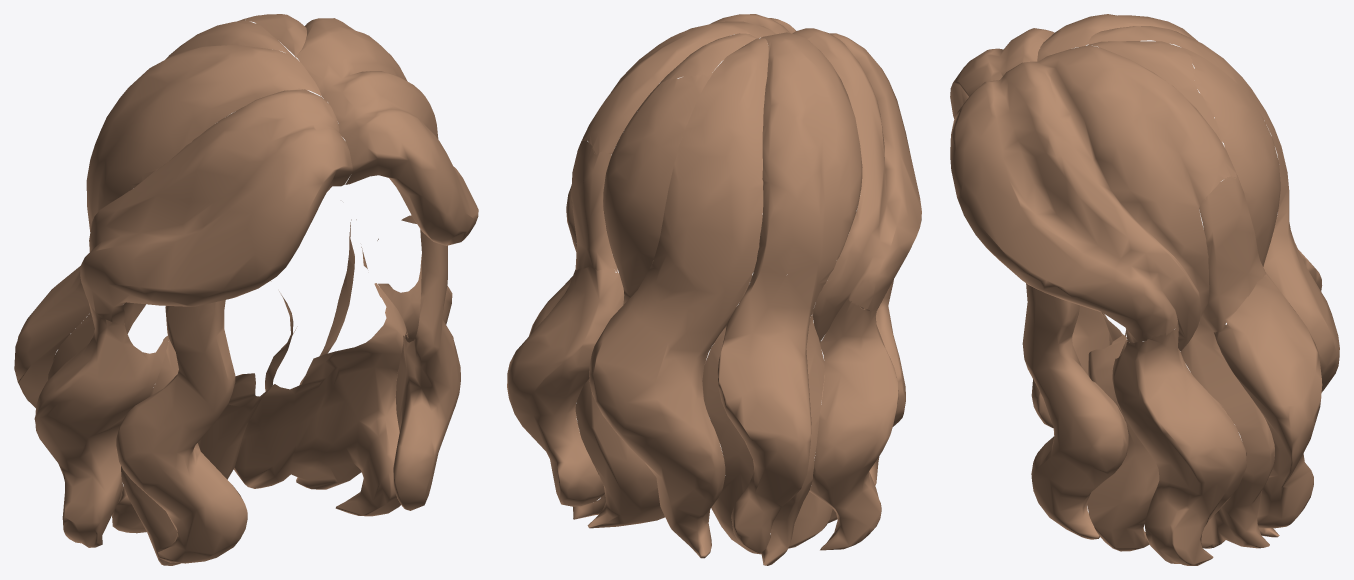
File: hair_10.glb
3 renders of one model, left to right at view 1: azimuth 30°, elevation 25°; view 2: azimuth 150°, elevation 25°; view 3: azimuth 270°, elevation 25°, orthographic. The views are drawn at different scales.
Visible parts, largest first — view 1: hair; view 2: hair; view 3: hair.
Boxes of the visible parts, box(x1,y1,x2,y2) form: hair: box(14, 14, 478, 565); hair: box(507, 14, 921, 565); hair: box(950, 14, 1339, 565).
Bounding box in the file's own units: 0.5793 × 0.6935 × 0.5208.
